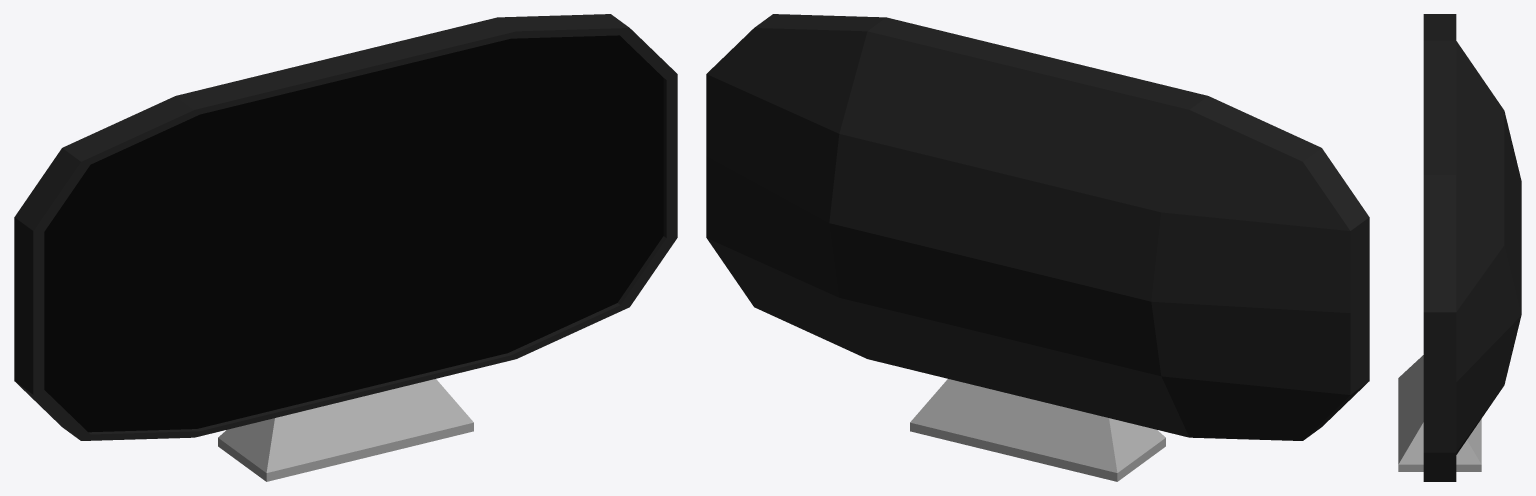
File: Bedroom_Prop_Tv.fbx
The picture shows the model from 3 angles, left to right: view 1: azimuth 30°, elevation 25°; view 2: azimuth 150°, elevation 25°; view 3: azimuth 270°, elevation 25°; orthographic projection. The views are drawn at different scales.
Visible parts, largest first — view 1: Cube.006; view 2: Cube.006; view 3: Cube.006.
Boxes of the visible parts, <box> form: Cube.006: <box>14,14,677,481</box>; Cube.006: <box>706,14,1369,481</box>; Cube.006: <box>1398,14,1521,481</box>.
Size of the model in its own units: 411 by 229 by 79.54.
